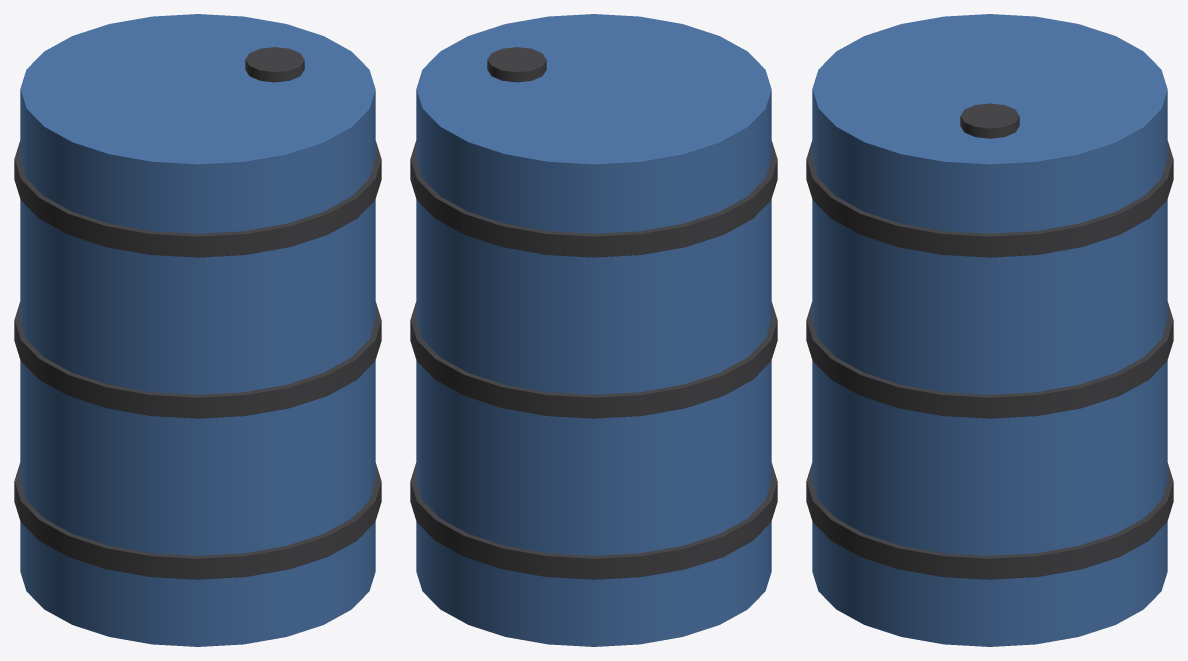
The model's file is barrel_3.glb.
3 views of the same model, side by side, from view 1: azimuth 30°, elevation 25°; view 2: azimuth 150°, elevation 25°; view 3: azimuth 270°, elevation 25° (orthographic).
Visible parts, largest first — view 1: Barrel, Hoop, Hoop.001, Hoop.002, Cap; view 2: Barrel, Hoop, Hoop.001, Hoop.002, Cap; view 3: Barrel, Hoop, Hoop.001, Hoop.002, Cap.
Part boxes in pixels (x1,y1,x2,y2): Barrel: [20, 14, 375, 646]; Hoop: [14, 463, 381, 579]; Hoop.001: [14, 302, 381, 418]; Hoop.002: [14, 141, 381, 257]; Cap: [245, 47, 304, 82]; Barrel: [416, 14, 771, 646]; Hoop: [410, 463, 777, 579]; Hoop.001: [410, 302, 777, 418]; Hoop.002: [410, 141, 777, 257]; Cap: [487, 47, 546, 82]; Barrel: [812, 14, 1167, 646]; Hoop: [806, 463, 1173, 579]; Hoop.001: [806, 302, 1173, 418]; Hoop.002: [806, 141, 1173, 257]; Cap: [960, 103, 1019, 138].
Bounding box in the file's own units: 0.62 × 0.92 × 0.62.
